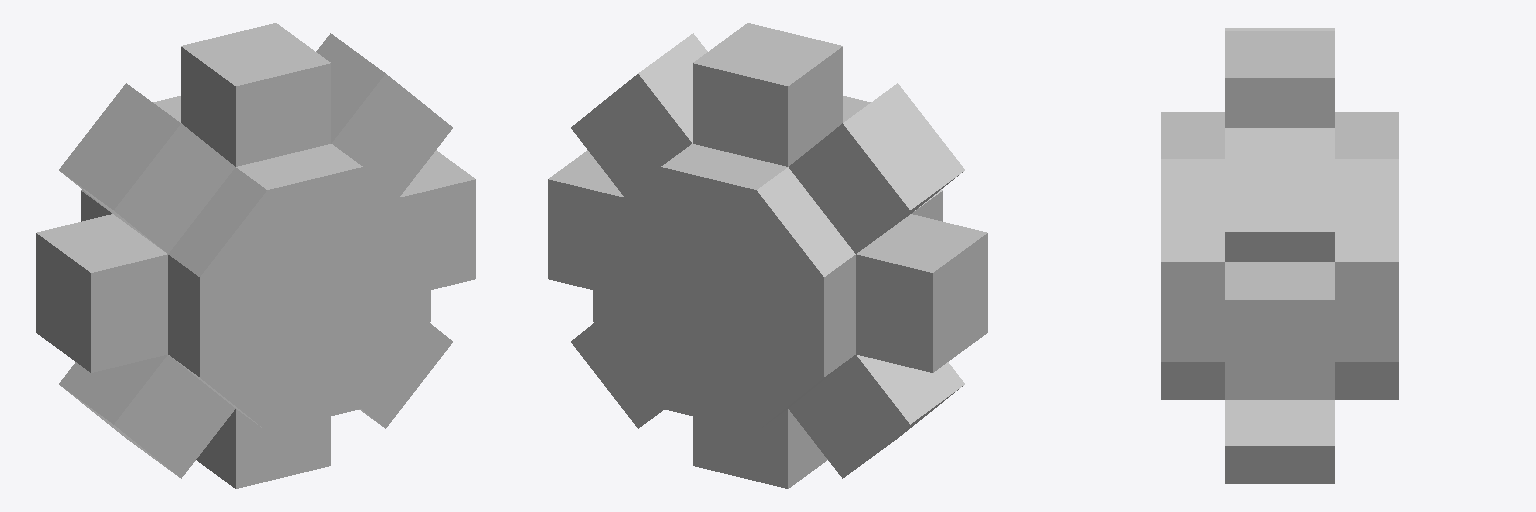
The model's file is four_coil.obj.
The picture shows the model from 3 angles: view 1: azimuth 30°, elevation 25°; view 2: azimuth 150°, elevation 25°; view 3: azimuth 270°, elevation 25°; orthographic projection.
Visible parts, largest first — view 1: Rotor4Phase_Cylinder.008; view 2: Rotor4Phase_Cylinder.008; view 3: Rotor4Phase_Cylinder.008.
Part boxes in pixels (bbox=[...]): Rotor4Phase_Cylinder.008: bbox=[36, 23, 475, 488]; Rotor4Phase_Cylinder.008: bbox=[548, 23, 987, 488]; Rotor4Phase_Cylinder.008: bbox=[1161, 28, 1398, 483].
Bounding box in the file's own units: 1.88 × 1.88 × 1.